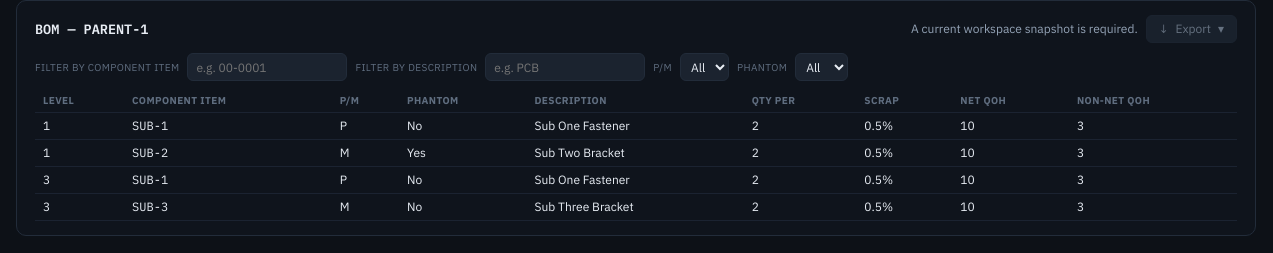
Scenario: BomPanel › P/M and Phantom filters › Clear resets search, Description, P/M, and Phantom and restores the complete sequence
The width and height of the screenshot is (1273, 253).
Type "sub" into the field labelled "Filter by Component Item" at (267,67), box [187,53,347,81]
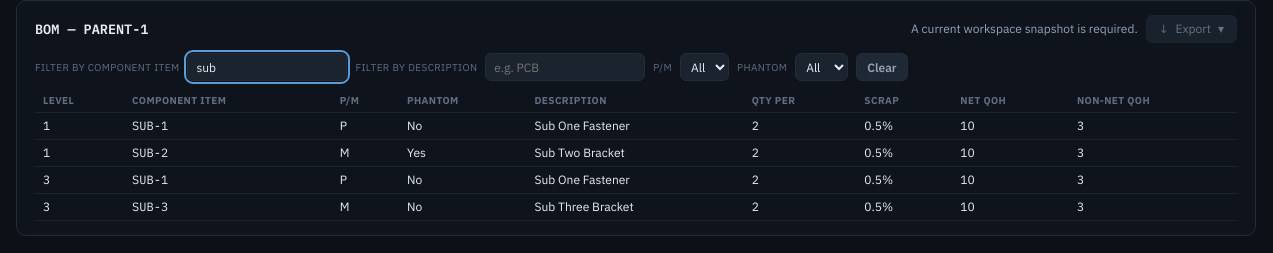
Type "bracket" into the field labelled "Filter by Description" at (565,67), box [485,53,645,81]
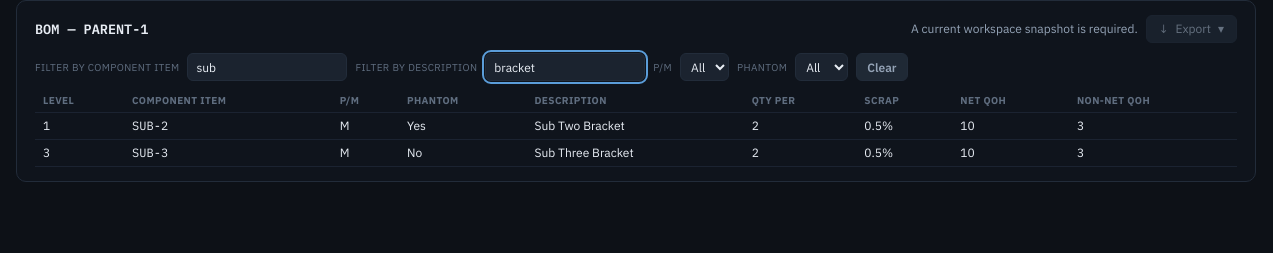
Select "M" in the dropdown labelled "P/M" at (705,67), box [680,53,729,81]
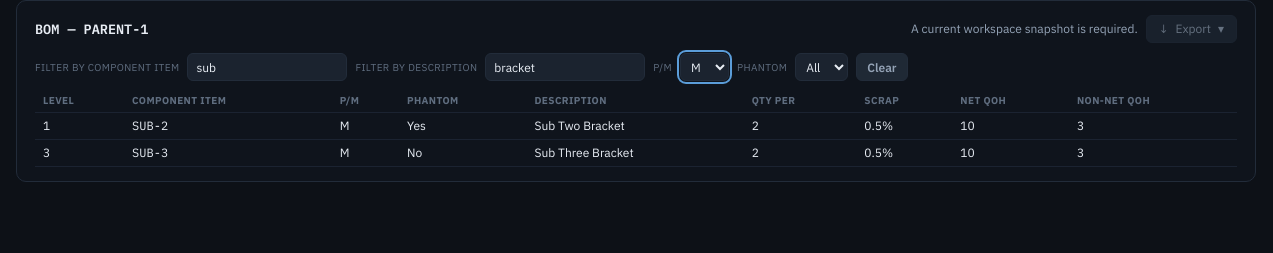
Select "Yes" in the dropdown labelled "Phantom" at (822,67), box [795,53,848,81]
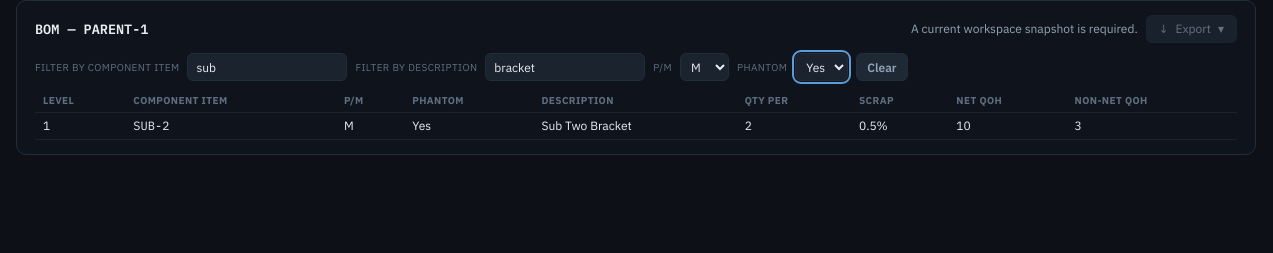
Click the button "Clear" at (882,67), box [856,53,908,81]
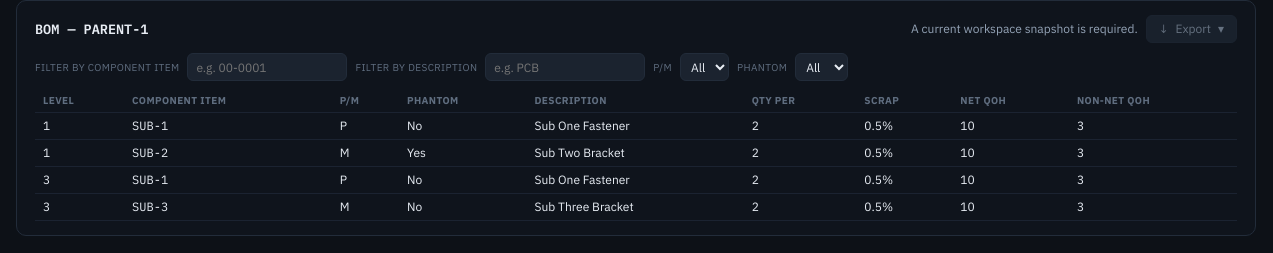
Result: the field labelled "Filter by Component Item" is empty at [187,53,347,81]
Result: the field labelled "Filter by Description" is empty at [485,53,645,81]
Result: the button "Clear" is gone
